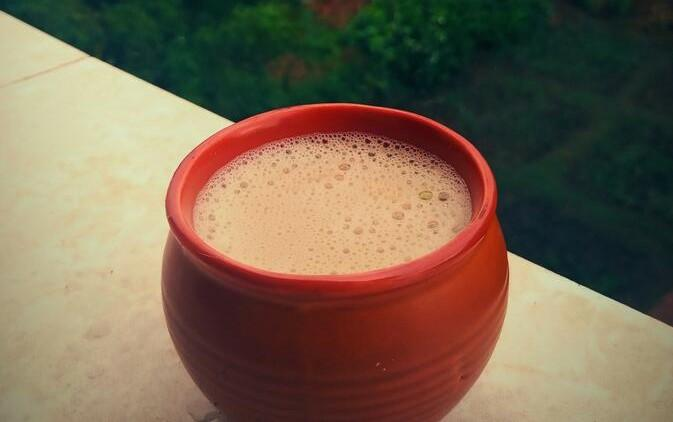Chai: (194, 132, 472, 277)
